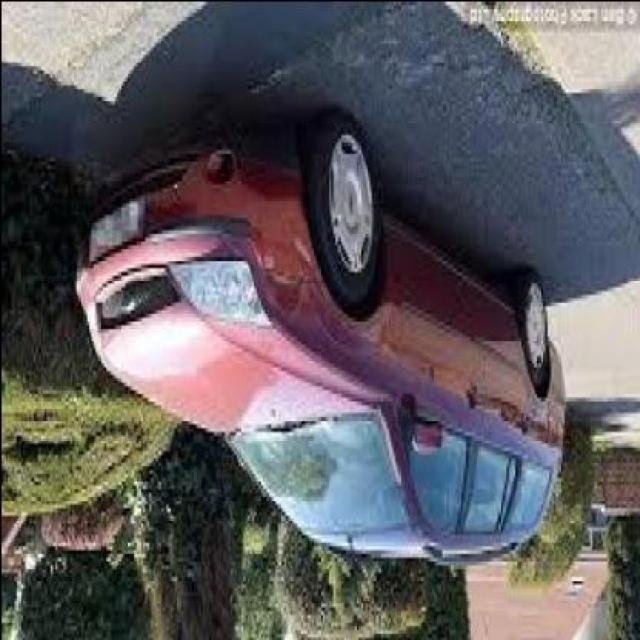damage: (243, 220, 310, 323)
